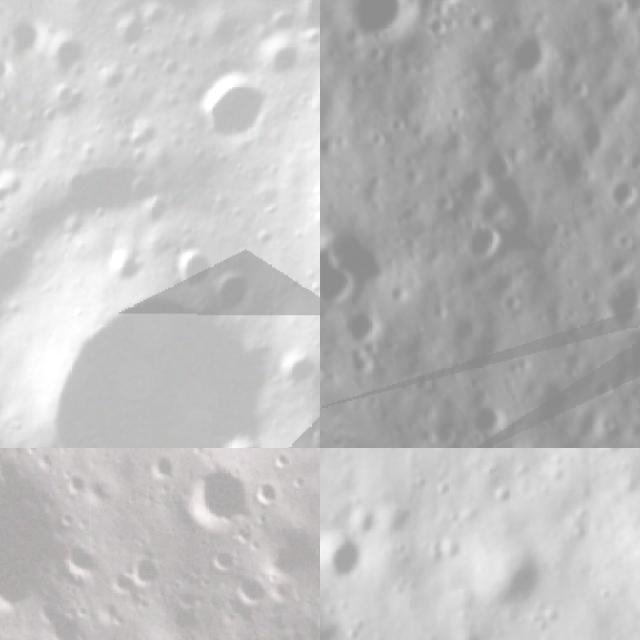crater: (0, 200, 320, 448), (0, 448, 95, 631), (485, 14, 580, 109), (183, 67, 284, 156), (174, 456, 267, 542), (320, 0, 431, 71), (320, 219, 382, 332), (469, 528, 547, 616), (199, 250, 274, 334), (229, 0, 320, 63), (446, 202, 518, 276), (327, 292, 398, 363), (448, 379, 521, 448), (583, 260, 640, 348), (464, 137, 533, 206), (158, 232, 227, 298), (601, 295, 640, 404), (244, 30, 306, 90), (224, 564, 287, 620), (40, 26, 94, 89), (31, 586, 94, 640), (119, 541, 174, 597), (58, 537, 112, 592), (241, 464, 297, 517), (410, 415, 499, 448), (589, 167, 640, 224), (320, 524, 367, 585), (195, 422, 301, 448), (97, 243, 151, 294), (101, 9, 156, 58), (87, 52, 135, 100), (135, 448, 183, 492), (203, 539, 247, 583), (171, 575, 211, 618), (61, 464, 98, 502), (411, 0, 478, 20), (0, 279, 15, 345), (557, 448, 620, 462), (320, 350, 339, 394)
